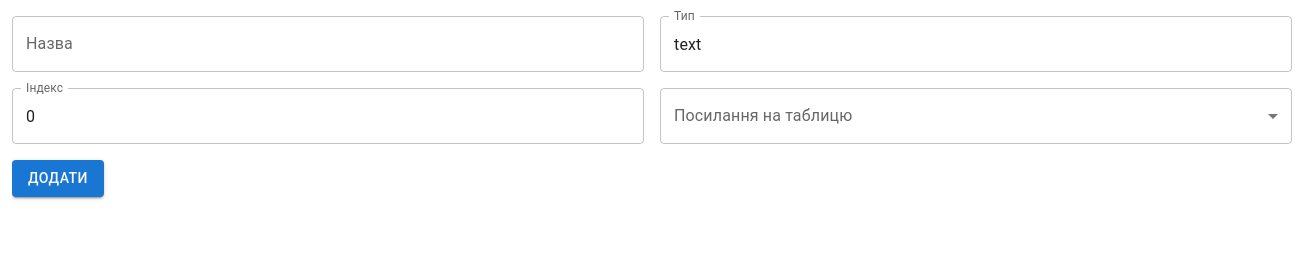
Test: FieldDefinitionForm › renders options in select fields
Click the dropdown named "Посилання на таблицю".
click(976, 116)  # box [660,88,1292,144]
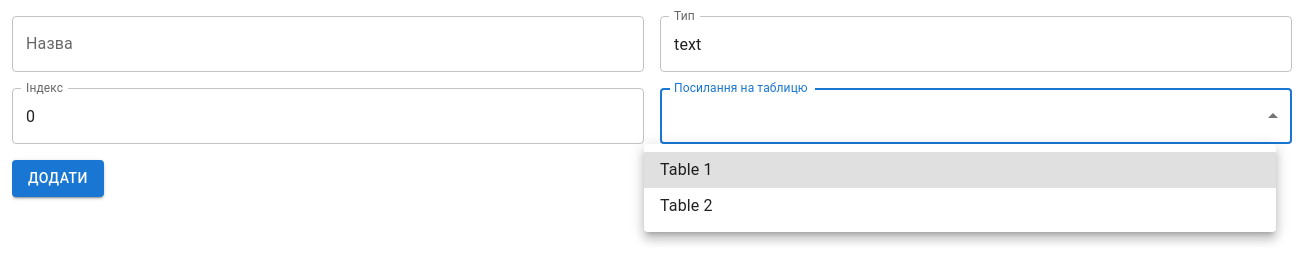
Expected: the option "Table 1" is shown, [644,152,1276,188]
Expected: the option "Table 2" is shown, [660,196,713,215]
